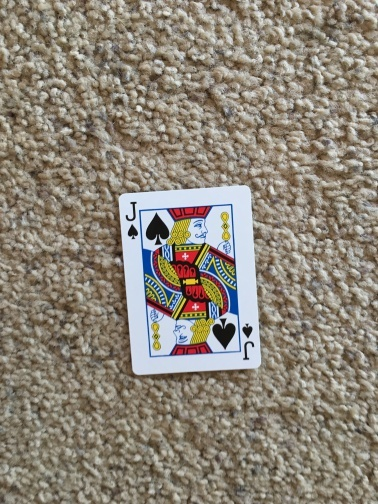jack: (124, 188, 257, 368)
